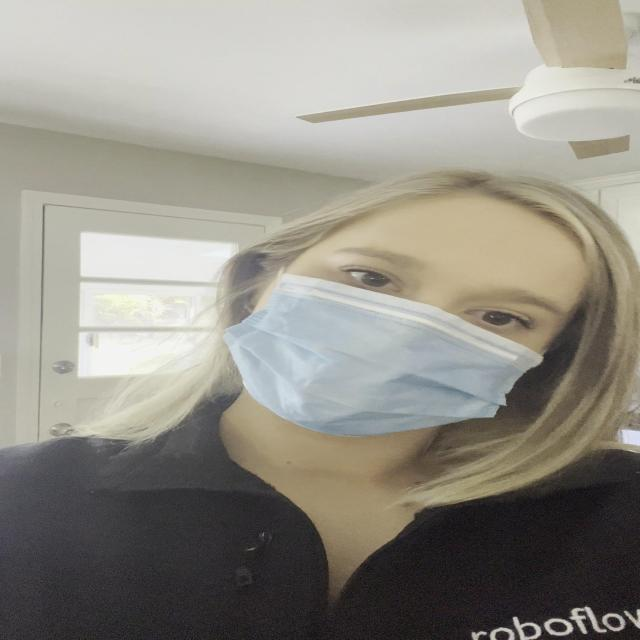no-helmet: (196, 204, 601, 446)
